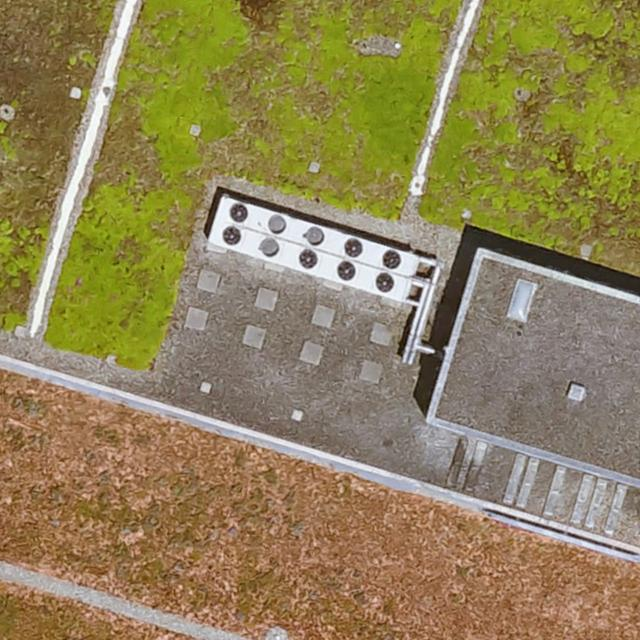tree: (238, 0, 285, 32)
